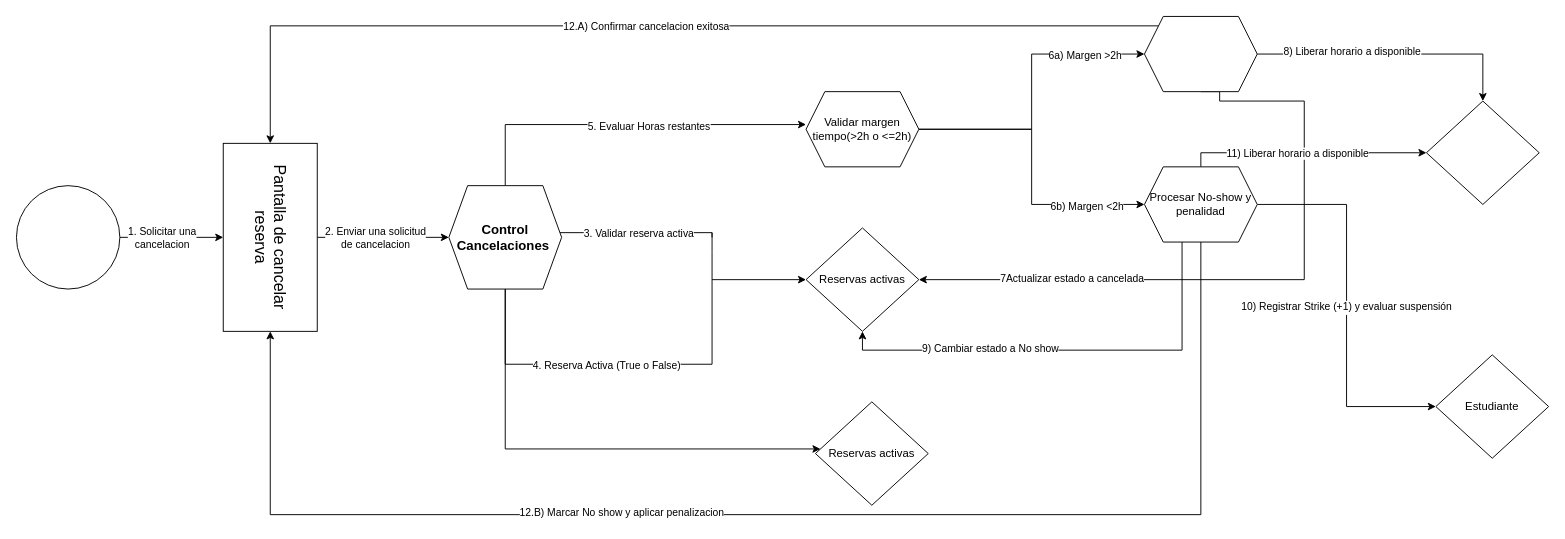
Some shapes in this 1565 by 539 pixel diagram are drawn without their labels. The centre of each missing label's shape, as x and y in pixels:
"Cancha" goes at (1482,152).
"Estudiante con reserva" goes at (68,237).
"Procesar cancelacion normal" goes at (1200,54).
